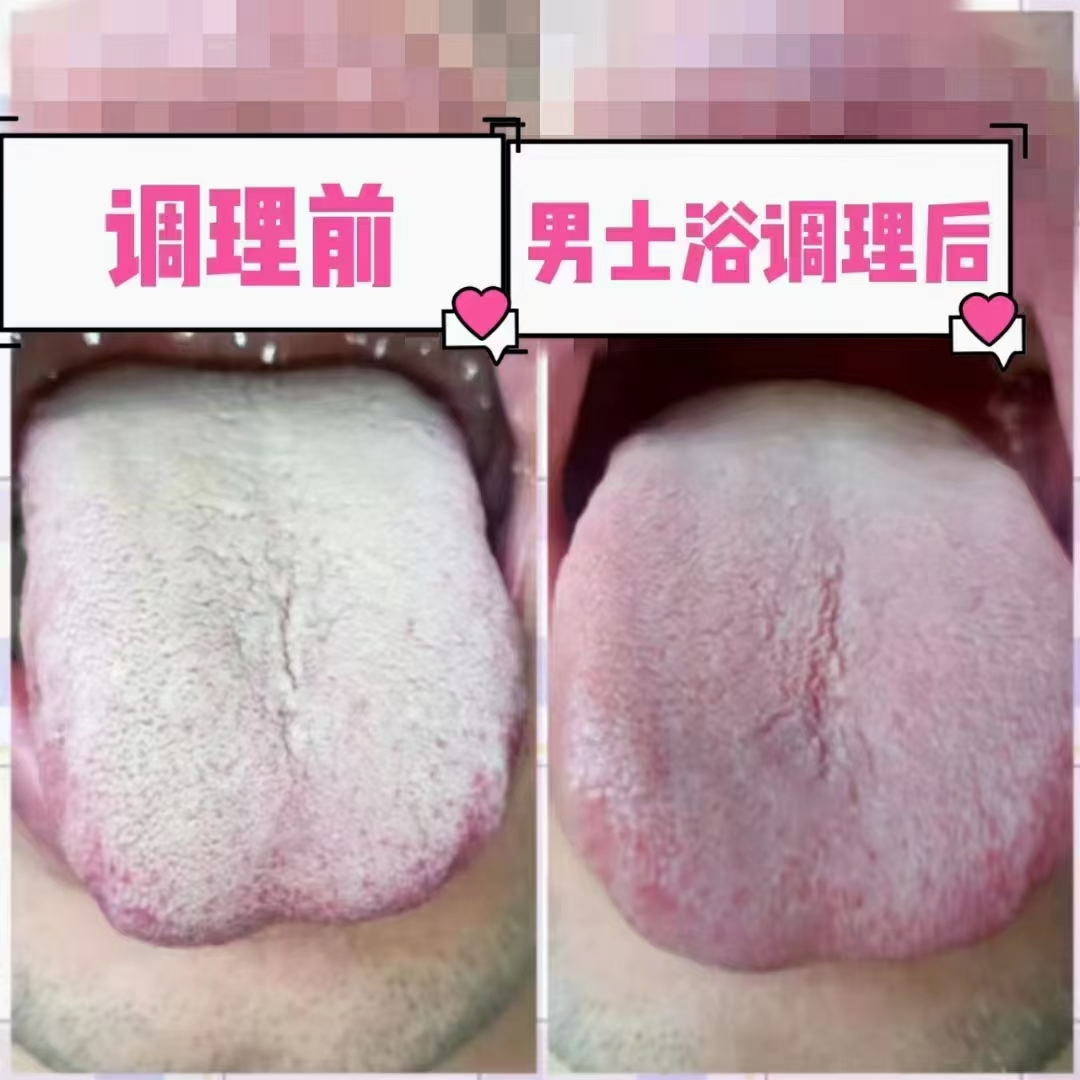baitaishe: (555, 382, 1073, 972), (18, 363, 530, 944)
liewenshe: (750, 563, 877, 806)
